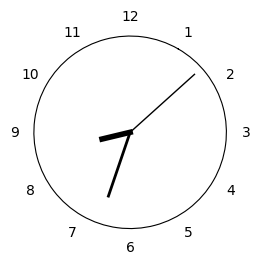12: (122, 9, 139, 24)
circle: (34, 36, 227, 229)
hours: (99, 130, 133, 142)
minutes: (107, 134, 131, 197)
seconds: (132, 73, 195, 132)
